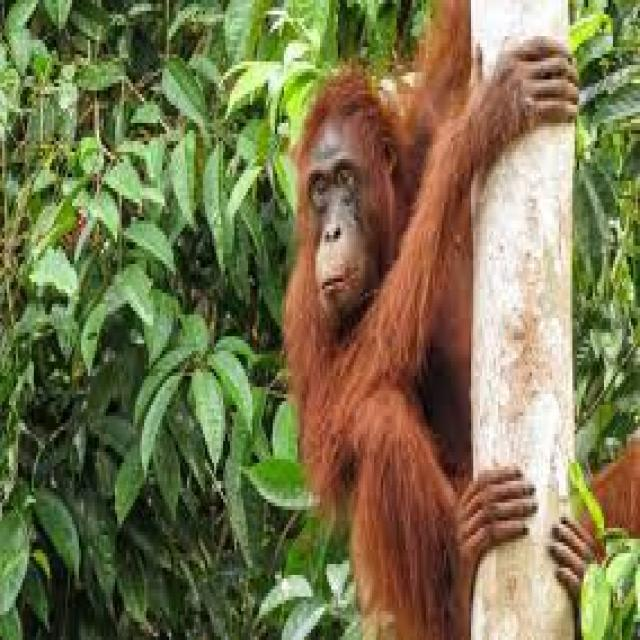Orangutan: (289, 22, 488, 628)
